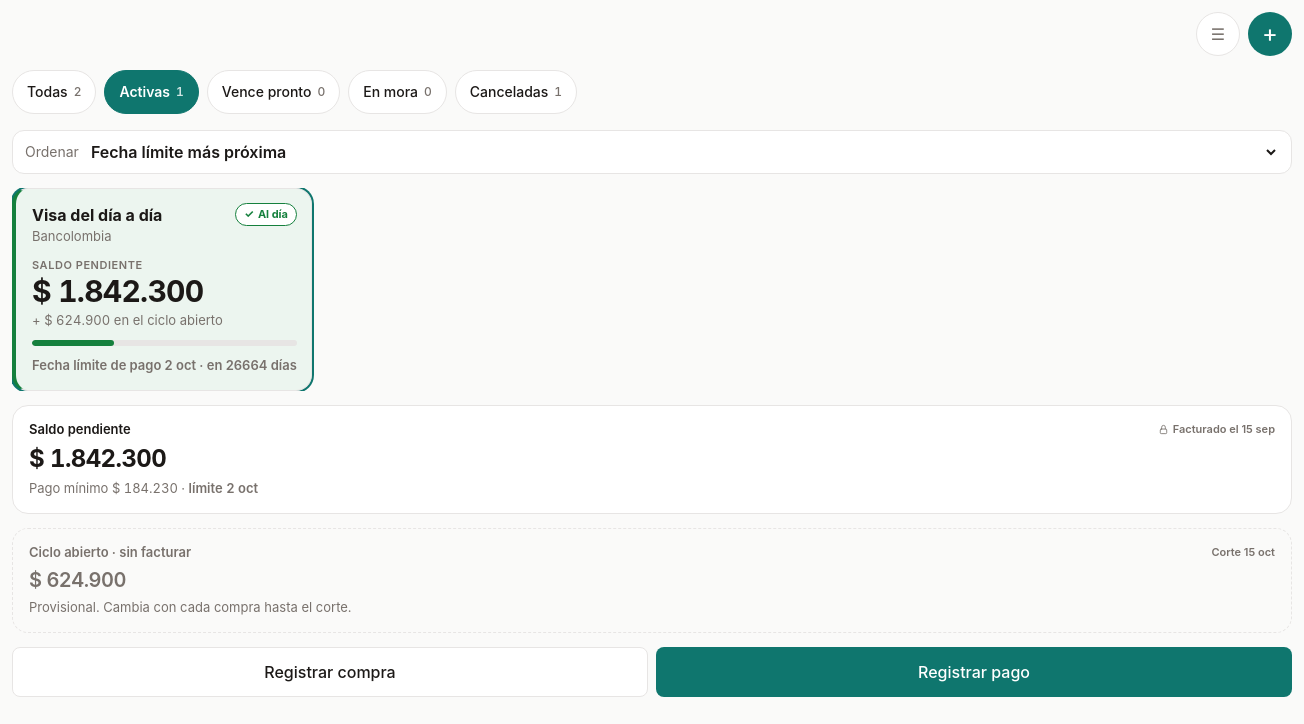
it: CardsPanel › moves cancelled cards behind their own filter
Expected: the element "Visa del día a día" is shown, [12,188,312,390]
Expected: the element "Amex antigua" is not shown
Click the radio button labelled "Canceladas 1" at x=516, y=92, box [455,70,577,114]
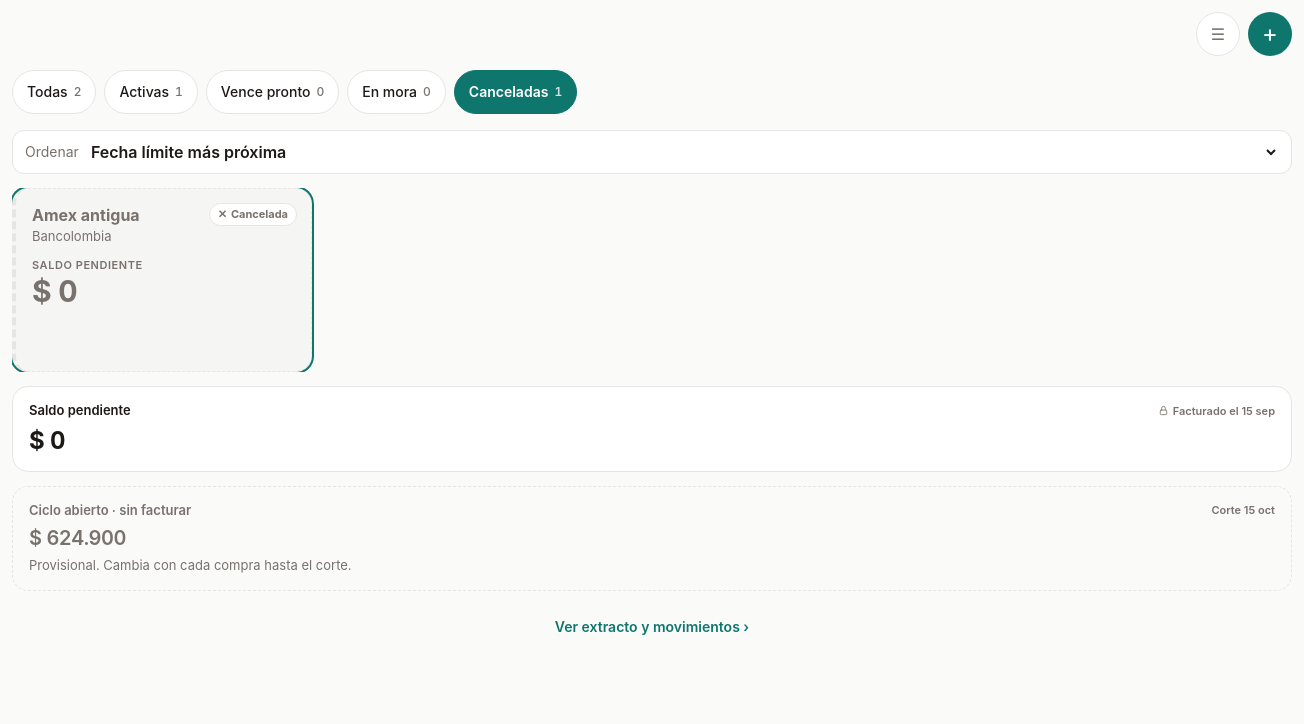
Expected: the element "Amex antigua" is shown, [12,188,312,372]
